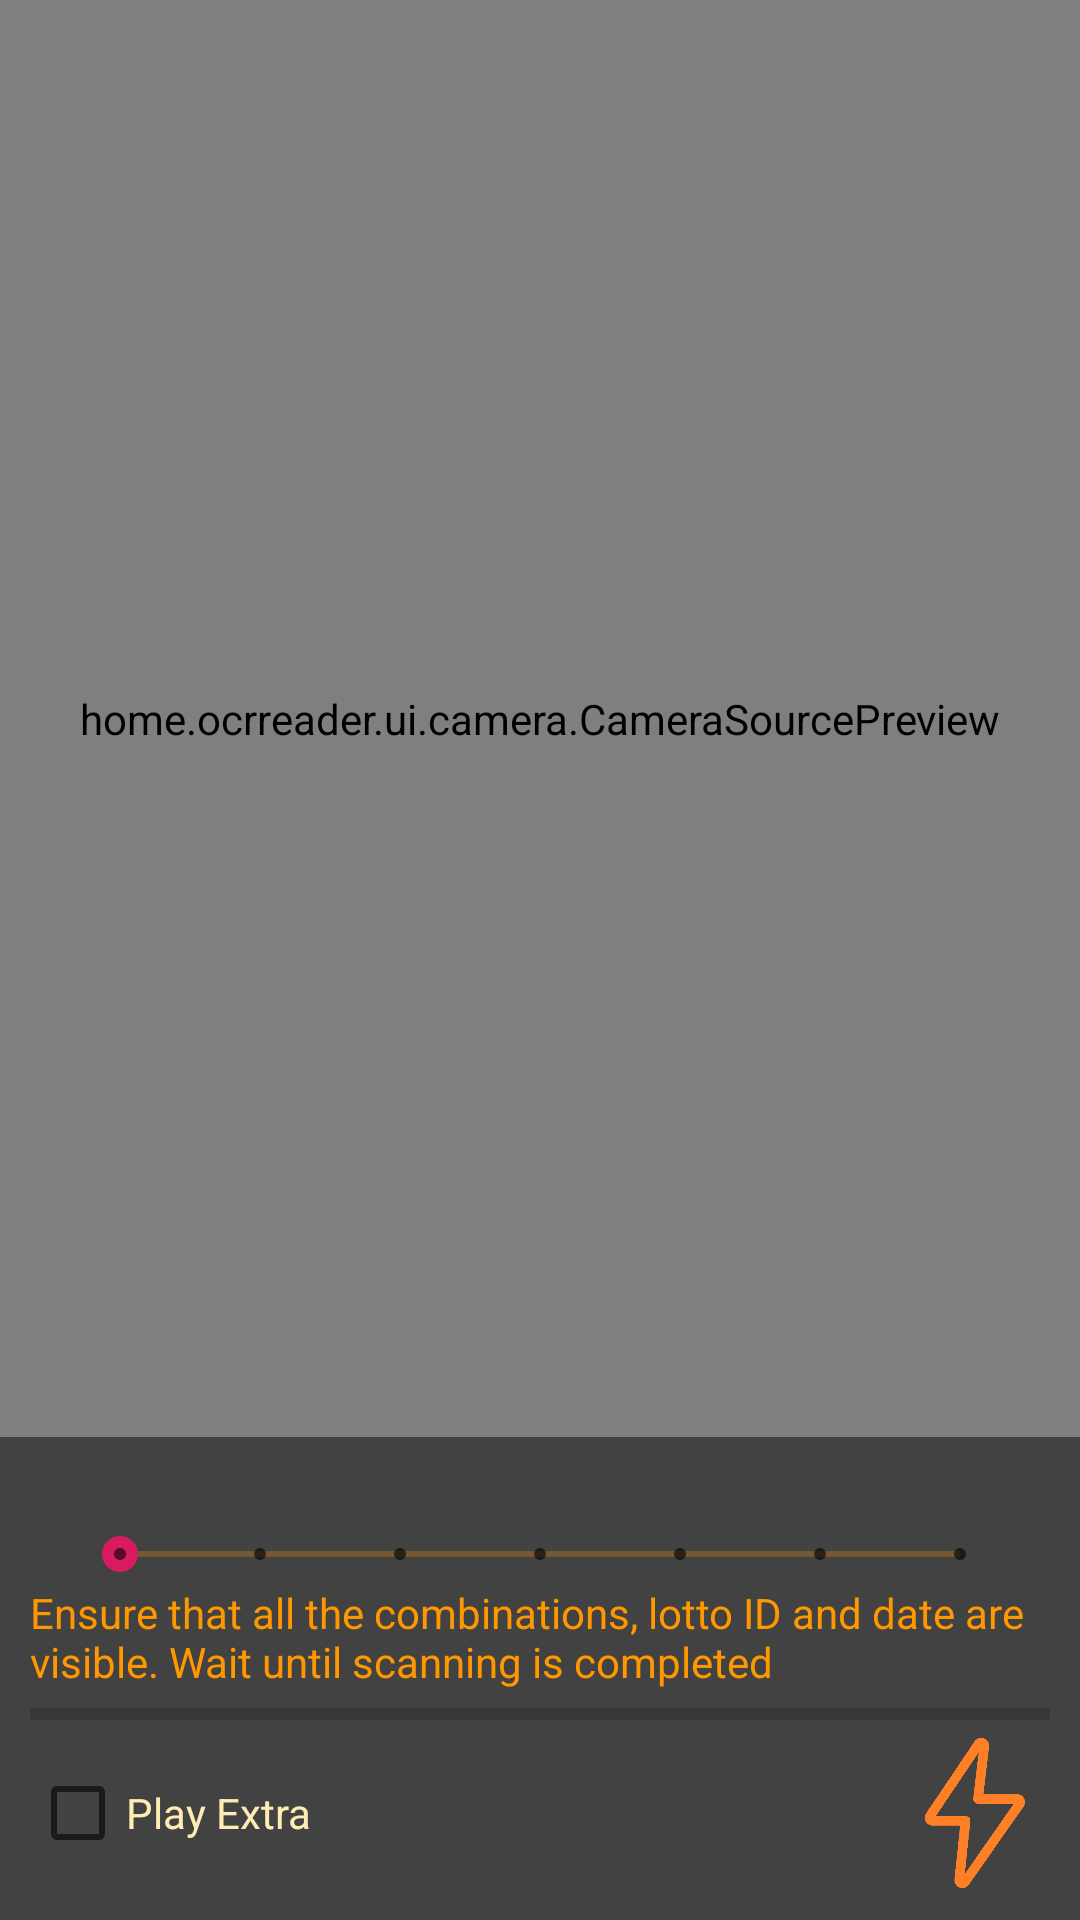

Point at icon controls on the screen. Image size 1080 × 1920, points as [x,y].
flash toggle: [975,1813]
